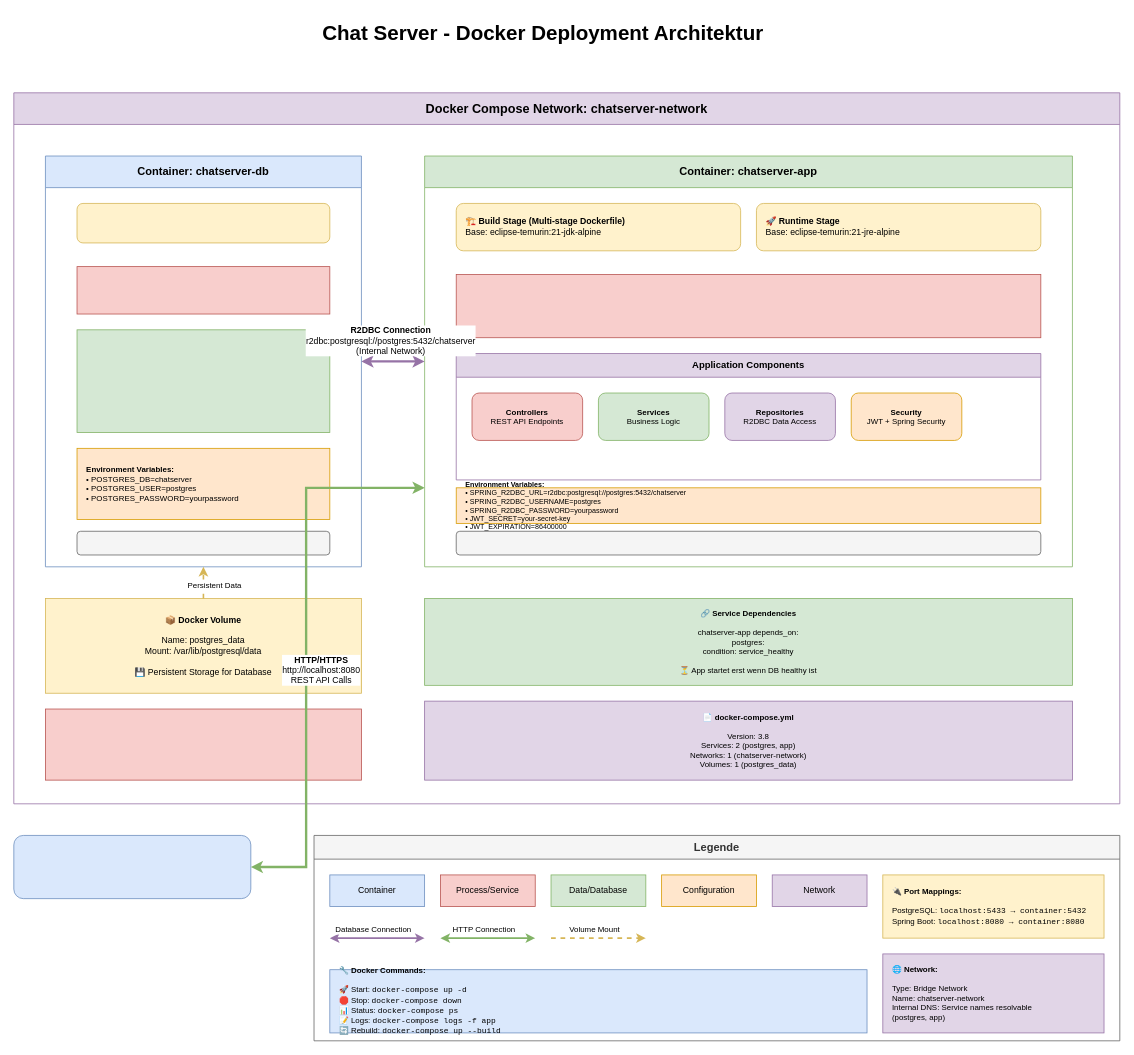
This 1134x1055 diagram has some shape labels left out. The shapes that lost their labels are listed below. From the top down, each one's centre as x and y in pixels, then its label:
At [203,223]: "Docker Image postgres:16-alpine".
At [203,290]: "PostgreSQL 16 Server".
At [748,306]: "Spring Boot Application Version: 3.5.6 Java: 21 Framework: WebFlux (Reactive)".
At [203,381]: "Database: chatserver 📋 Tables: • users • chat_rooms • messages".
At [203,542]: "🔌 Port Mapping: Host 5433 → Container 5432".
At [748,542]: "🔌 Port Mapping: Host 8080 → Container 8080".
At [203,744]: "🏥 Health Check Test: pg_isready -U postgres Interval: 5s Timeout: 3s Retries: 5".
At [132,867]: "🌐 Client Application (Browser / Mobile / Postman)".
